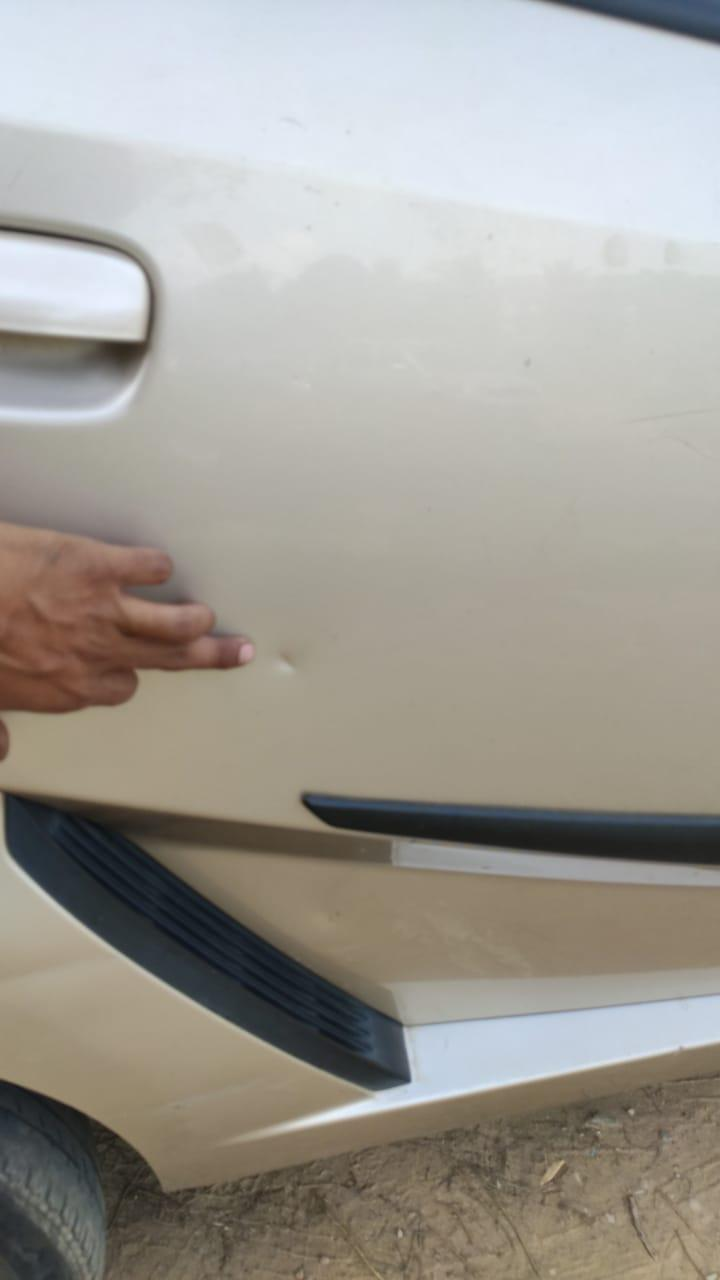doorouter-dent: (1, 18, 719, 871)
